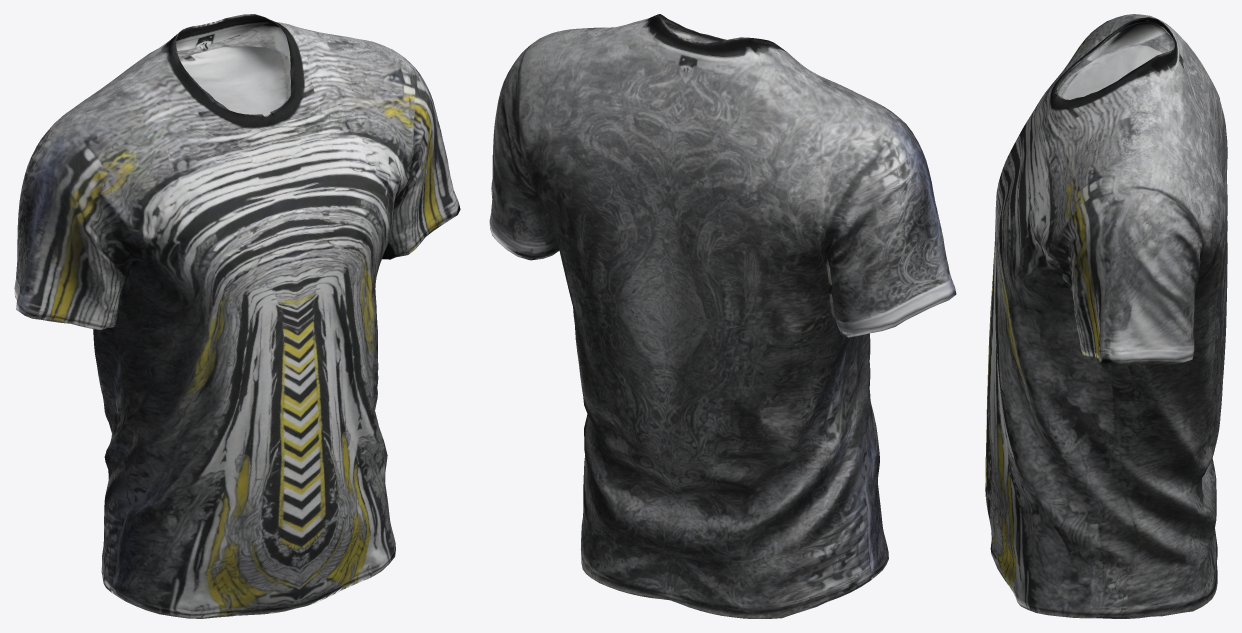
The model's file is shirt7.glb.
3 views of the same model, side by side, from view 1: azimuth 30°, elevation 25°; view 2: azimuth 150°, elevation 25°; view 3: azimuth 270°, elevation 25° (orthographic). The views are drawn at different scales.
Size of the model in its own units: 1.75 by 2.01 by 0.8348.
Materials: 1 (1 with a texture image).
